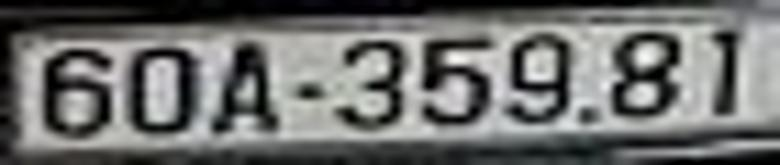-: (295, 86, 322, 98)
.: (579, 108, 595, 122)
0: (130, 48, 192, 131)
1: (714, 28, 737, 114)
3: (341, 40, 401, 126)
5: (424, 37, 488, 125)
6: (44, 48, 109, 133)
8: (614, 32, 676, 118)
9: (510, 34, 567, 125)
A: (216, 40, 278, 134)
